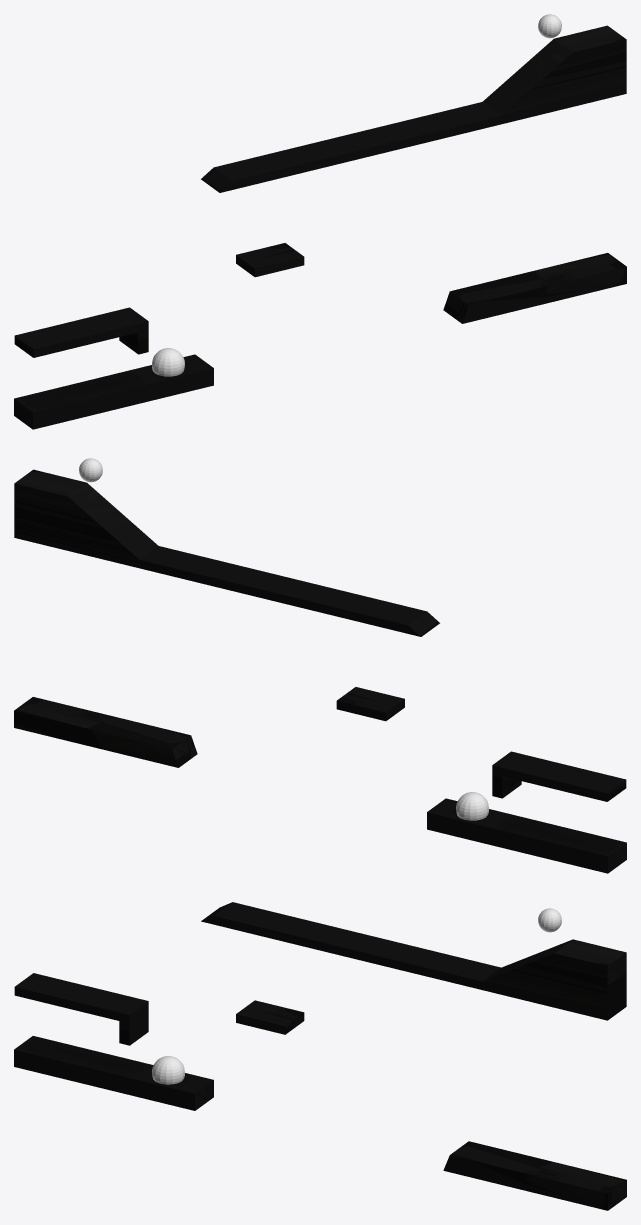
Rendered from EnvironmentAssetsLevel2.fbx.
3 views of the same model, one above another, from view 1: azimuth 30°, elevation 25°; view 2: azimuth 150°, elevation 25°; view 3: azimuth 330°, elevation 25° (orthographic).
Parts seen in each view (by area): view 1: RightTopPlatform, LeftBottomPlatform, RightBottomPlatform, LeftRoof, BasicPlatform, BallHoleSized; view 2: RightTopPlatform, LeftBottomPlatform, RightBottomPlatform, LeftRoof, BasicPlatform, BallHoleSized; view 3: RightTopPlatform, LeftBottomPlatform, RightBottomPlatform, LeftRoof, BasicPlatform, BallHoleSized, Ball.
Part boxes in pixels (x1,y1,x2,y2): RightTopPlatform: (201, 25, 626, 192); LeftBottomPlatform: (14, 354, 213, 429); RightBottomPlatform: (443, 253, 626, 323); LeftRoof: (14, 307, 148, 357); BasicPlatform: (236, 243, 304, 277); BallHoleSized: (152, 348, 184, 376); RightTopPlatform: (14, 469, 439, 636); LeftBottomPlatform: (427, 798, 626, 873); RightBottomPlatform: (14, 697, 197, 767); LeftRoof: (492, 751, 626, 801); BasicPlatform: (336, 687, 404, 721); BallHoleSized: (456, 792, 488, 820); RightTopPlatform: (201, 902, 626, 1020); LeftBottomPlatform: (14, 1036, 213, 1110); RightBottomPlatform: (443, 1141, 626, 1210); LeftRoof: (14, 973, 148, 1045); BasicPlatform: (236, 1000, 304, 1034); BallHoleSized: (152, 1056, 184, 1084); Ball: (538, 908, 561, 932).
Size of what is drawn, in the model's own units: 7214 by 3237 by 400.
